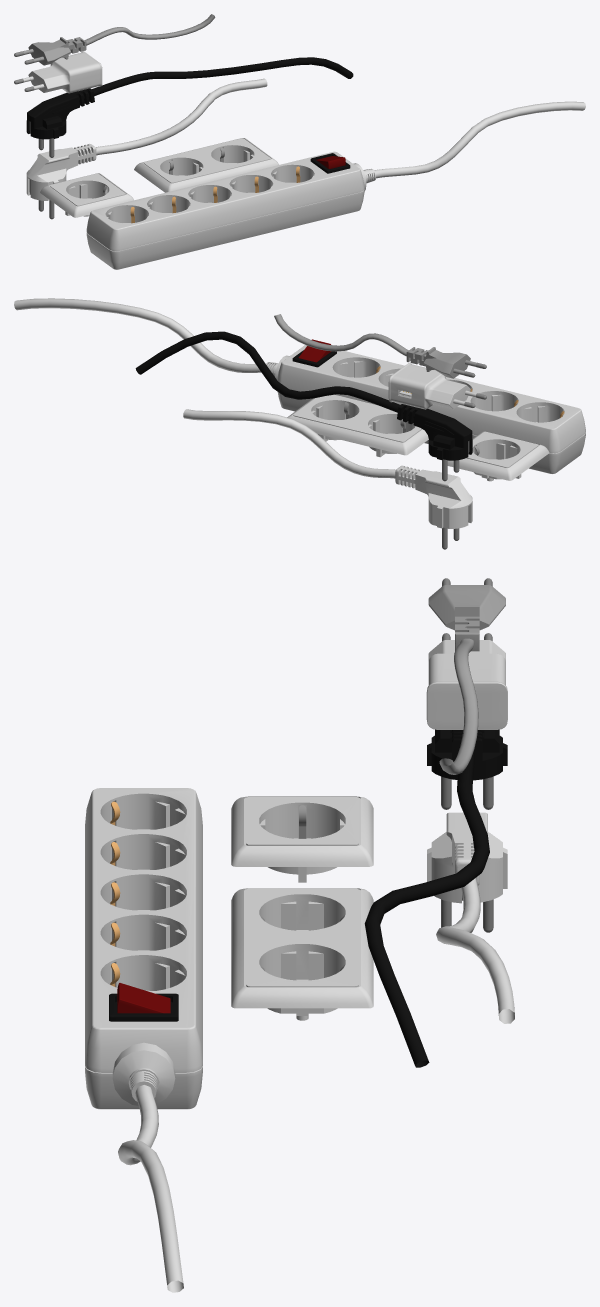
The picture shows the model from 3 angles, top to bottom: view 1: azimuth 30°, elevation 25°; view 2: azimuth 150°, elevation 25°; view 3: azimuth 270°, elevation 25°; orthographic projection. The views are drawn at different scales.
Visible parts, largest first — view 1: connector strip, power outlet 2, power outlet, power adapter, power plug, power plug 2 cable, power plug 2, connector strip cable, power plug 1 cable, power plug 3, power plug 3 cable; view 2: connector strip, power outlet 2, power plug, power outlet, power adapter, power plug 2 cable, connector strip cable, power plug 2, power plug 1 cable, power plug 3, power plug 3 cable, switch; view 3: connector strip, power outlet 2, power outlet, power plug 2 cable, power adapter, power plug, connector strip cable, power plug 2, power plug 3, power plug 1 cable, power plug 3 cable, switch.
Part boxes in pixels (x1,y1,x2,y2): connector strip: (86,151,375,269); power outlet 2: (134,138,278,192); power outlet: (40,173,133,217); power adapter: (14,51,102,93); power plug: (26,144,96,219); power plug 2 cable: (79,57,353,101); power plug 2: (26,88,94,157); connector strip cable: (374,101,585,178); power plug 1 cable: (78,78,267,155); power plug 3: (14,37,86,65); power plug 3 cable: (74,14,215,46); connector strip: (266,345,585,474); power outlet 2: (287,394,428,457); power plug: (395,465,472,549); power outlet: (447,431,549,481); power adapter: (388,362,486,409); power plug 2 cable: (135,331,414,418); connector strip cable: (14,298,261,372); power plug 2: (397,404,472,481); power plug 1 cable: (183,409,415,478); power plug 3: (406,347,486,378); power plug 3 cable: (274,314,423,359); switch: (298,339,331,362); connector strip: (85,788,202,1109); power outlet 2: (231,888,373,1020); power outlet: (231,796,373,882); power plug 2 cable: (364,751,489,1067); power adapter: (426,633,507,729); power plug: (427,812,507,932); connector strip cable: (118,1085,183,1292); power plug 2: (427,729,507,809); power plug 3: (428,578,505,651); power plug 1 cable: (436,869,514,1023); power plug 3 cable: (439,638,478,774); switch: (117,983,170,1013).
Bounding box in the file's own units: 51.69 × 17.11 × 19.43.
